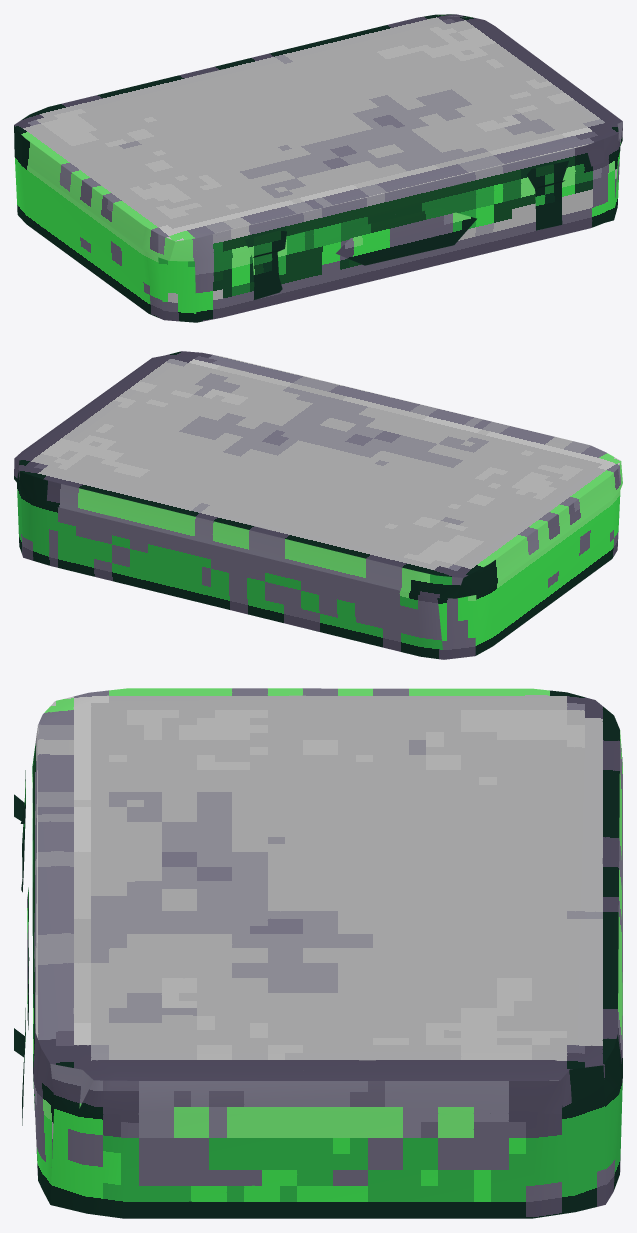
File: medical_box.glb
3 renders of one model, top to bottom at view 1: azimuth 30°, elevation 25°; view 2: azimuth 150°, elevation 25°; view 3: azimuth 270°, elevation 25°, orthographic. The views are drawn at different scales.
Visible parts, largest first — view 1: mesh; view 2: mesh; view 3: mesh.
Part boxes in pixels (left/top/right/bottom): mesh: left=14, top=14, right=622, bottom=322; mesh: left=14, top=351, right=622, bottom=659; mesh: left=14, top=688, right=622, bottom=1218.
Bounding box in the file's own units: 0.5454 × 0.0975 × 0.3598.
1 material, 1 textured.
